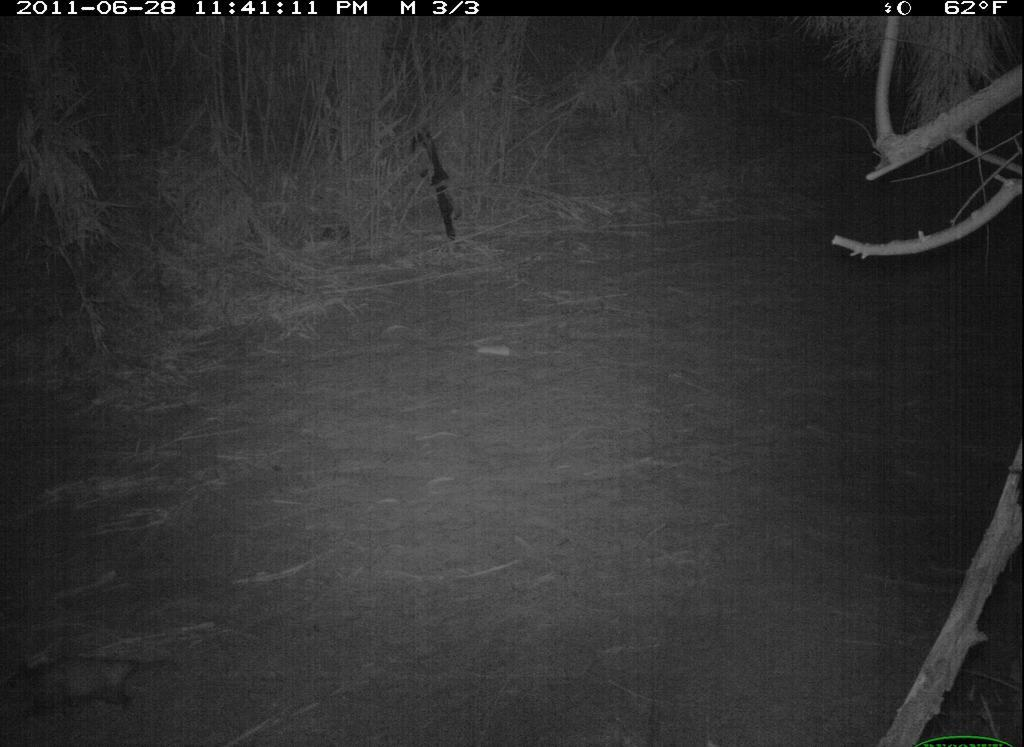opossum: (11, 607, 189, 735)
